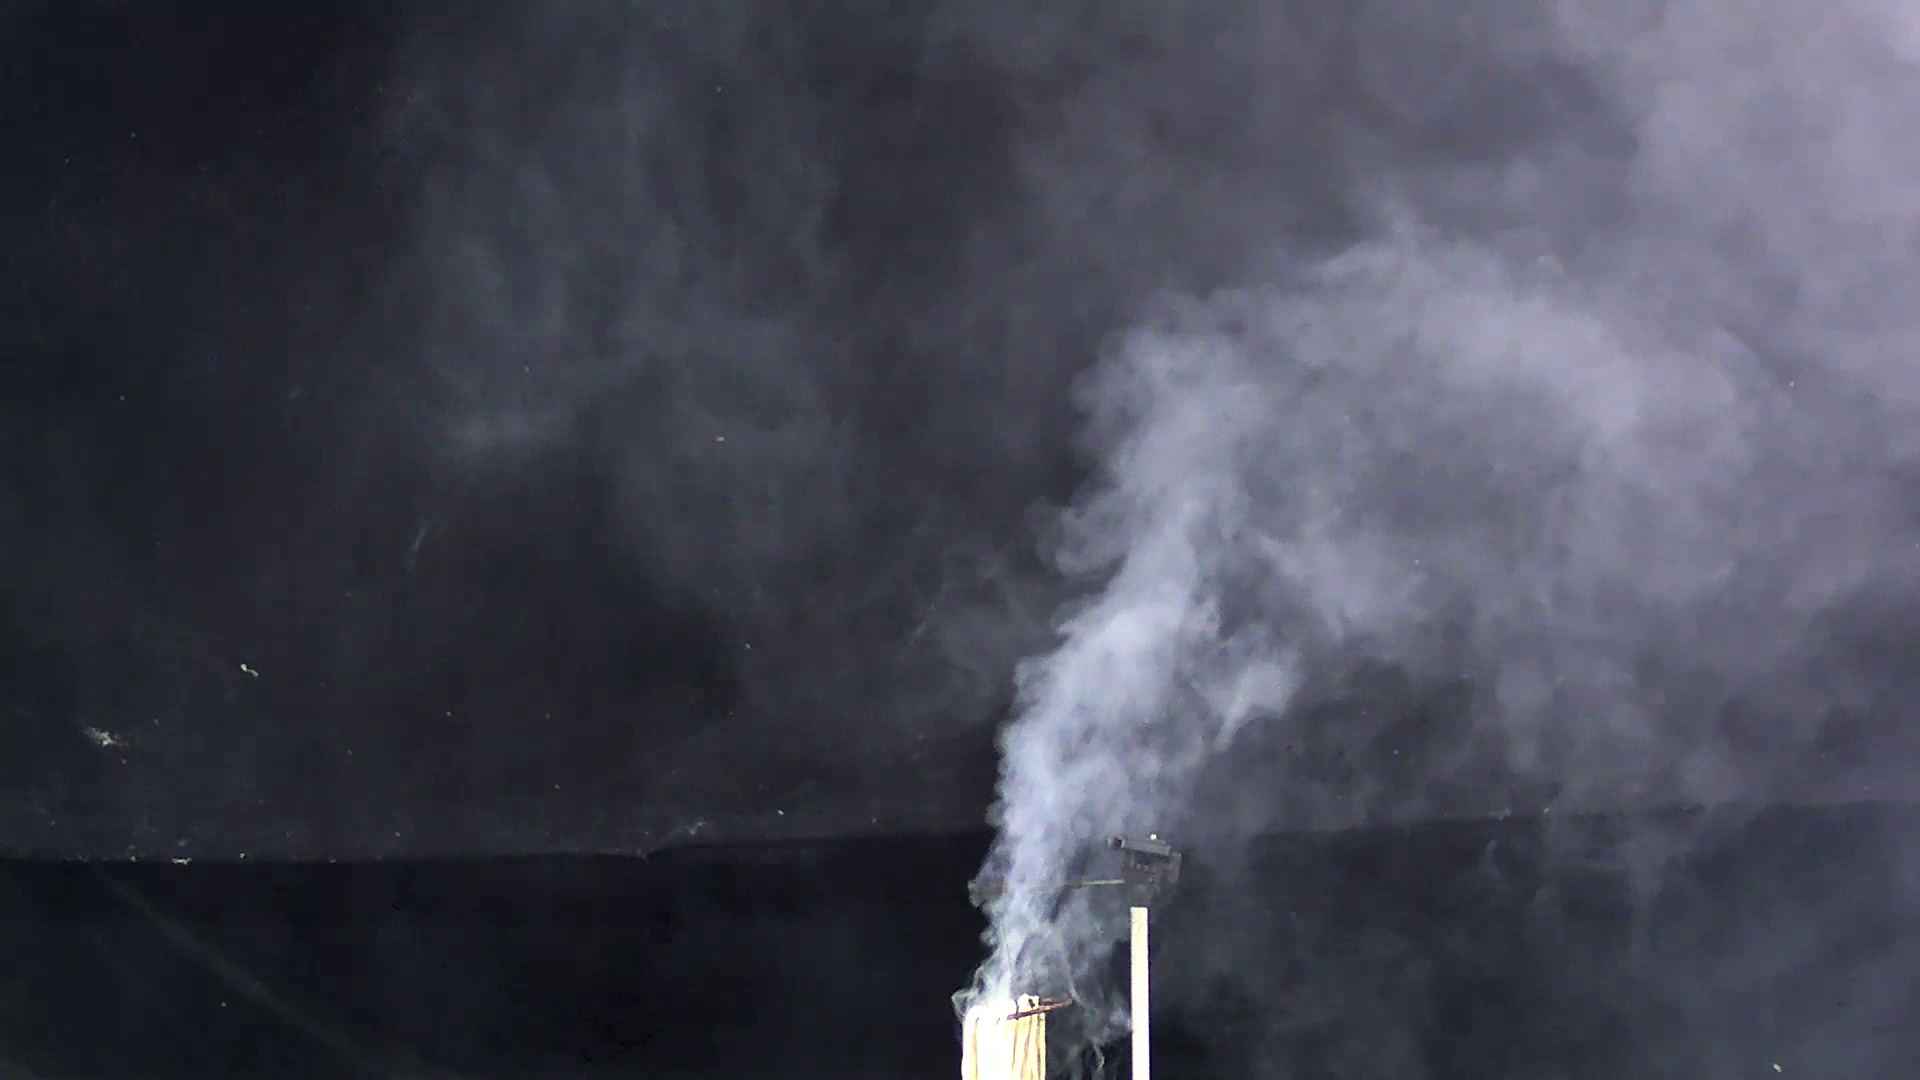smoke: (905, 175, 1902, 1025)
